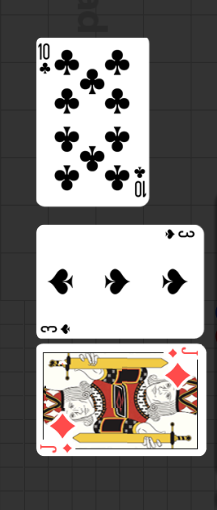10C: (37, 42, 53, 77)
3S: (40, 322, 73, 335)
9D: (39, 443, 73, 456)
